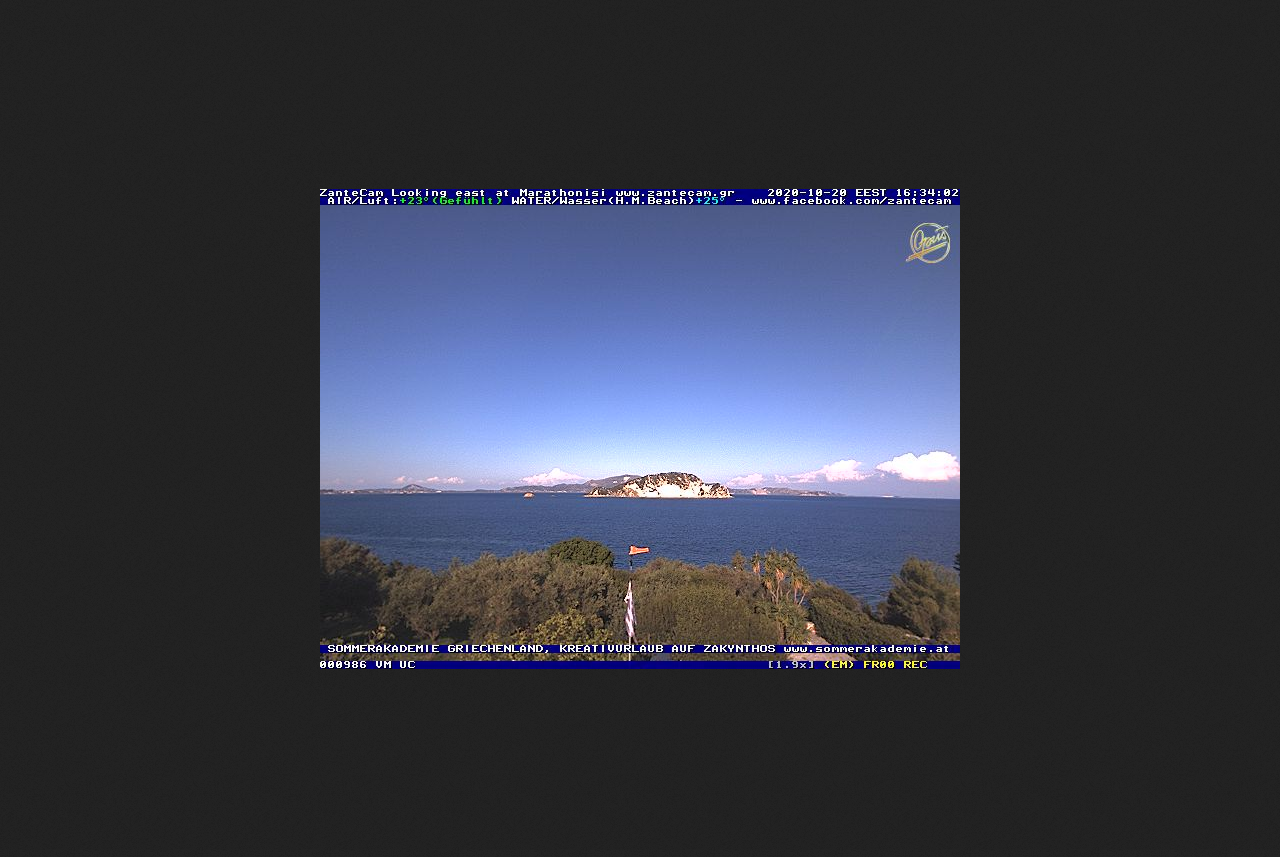no: (620, 578, 640, 640)
